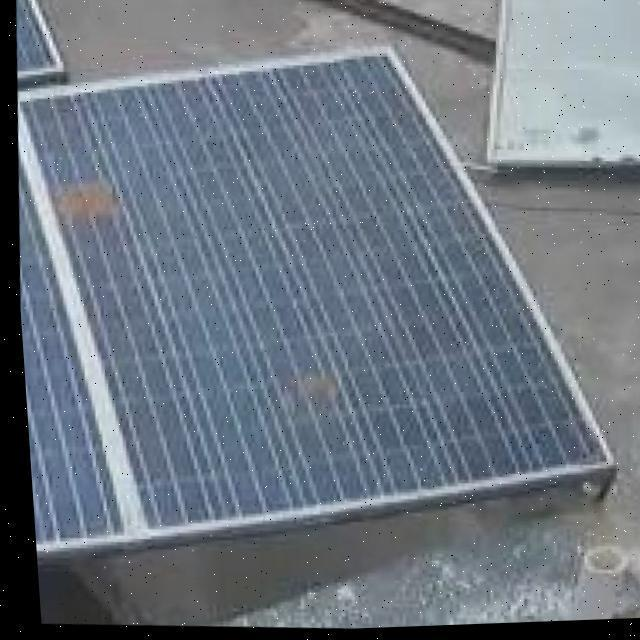Anomaly Solar Panel: (16, 0, 604, 585)
Surface Contaminant: (41, 155, 127, 235), (280, 355, 342, 416)
